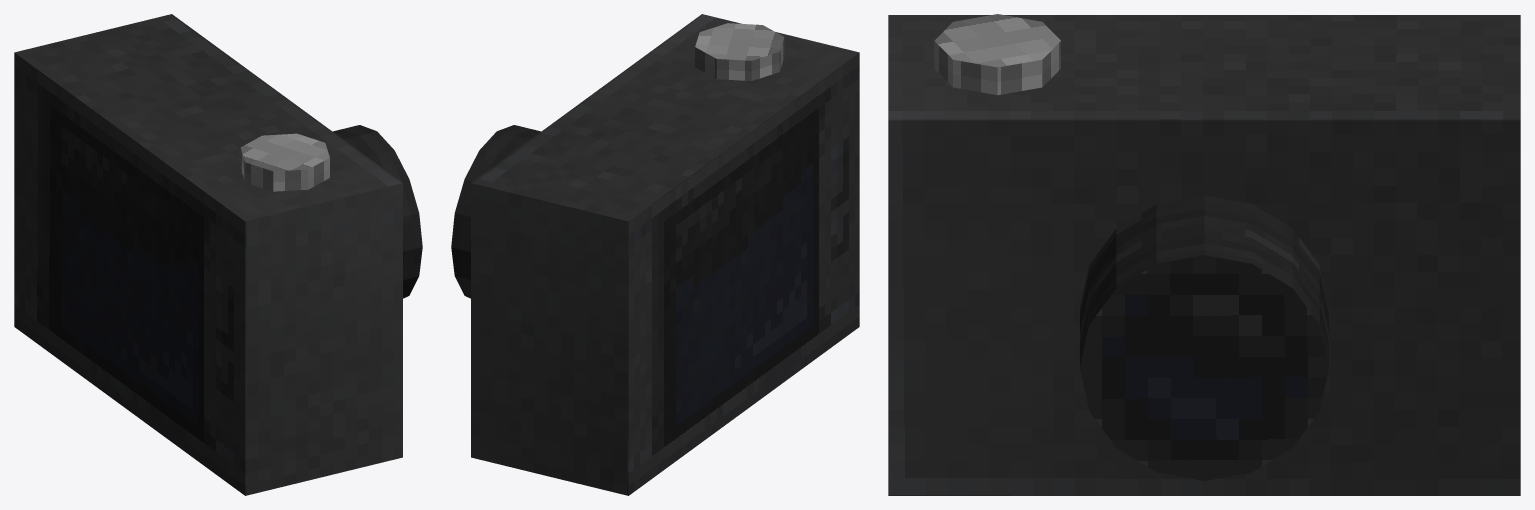
File: Seeker_Photo.fbx
The picture shows the model from 3 angles, left to right: view 1: azimuth 30°, elevation 25°; view 2: azimuth 150°, elevation 25°; view 3: azimuth 270°, elevation 25°; orthographic projection. The views are drawn at different scales.
Visible parts, largest first — view 1: Cube; view 2: Cube; view 3: Cube.
Part boxes in pixels (x1,y1,x2,y2): Cube: [14, 14, 422, 495]; Cube: [451, 14, 859, 495]; Cube: [888, 14, 1520, 495].
Bounding box in the file's own units: 202 × 230 × 327.
